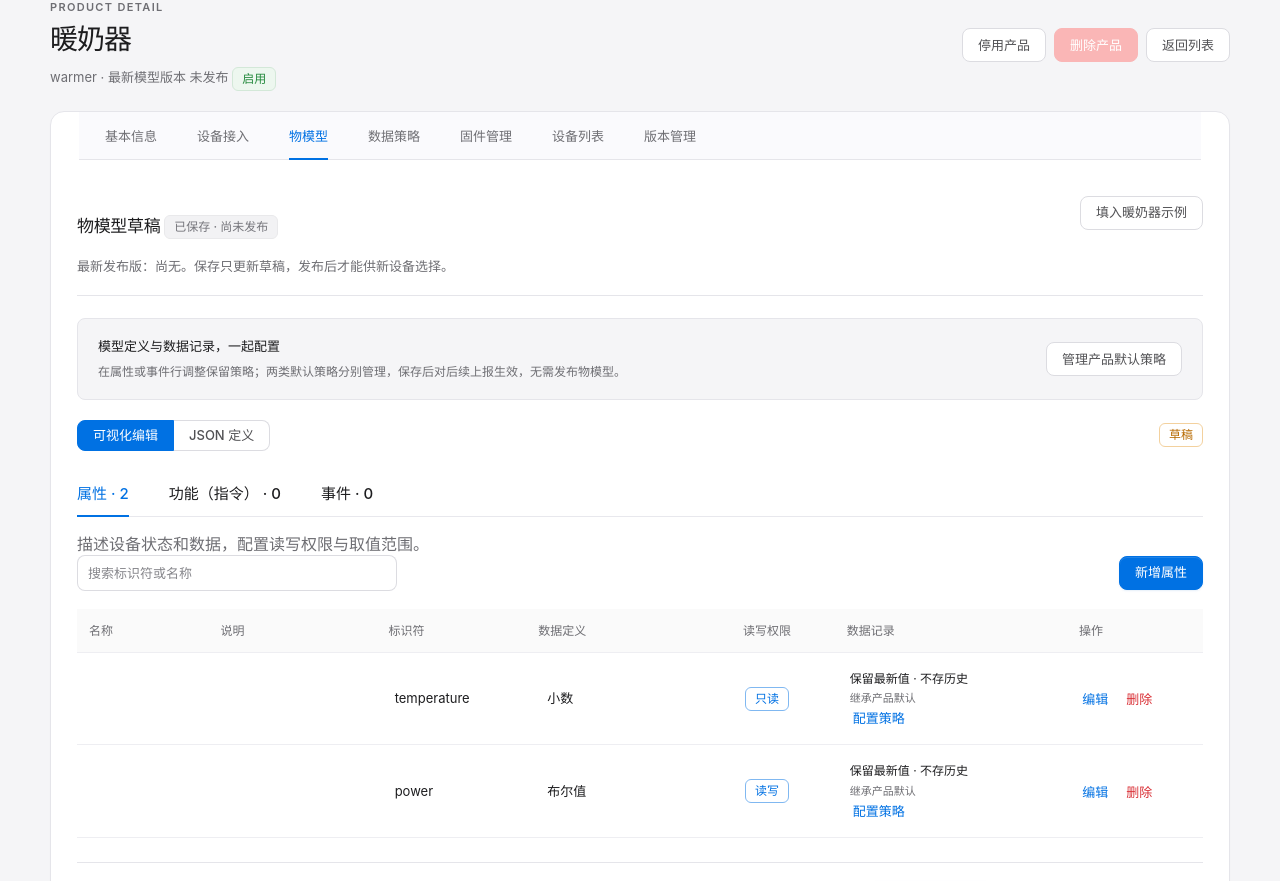
Test: requires saving changed attribute definitions before configuring their policy
Click the button "填入暖奶器示例".
click(1142, 213)  # box [1080,196,1203,230]
(page scrolled)
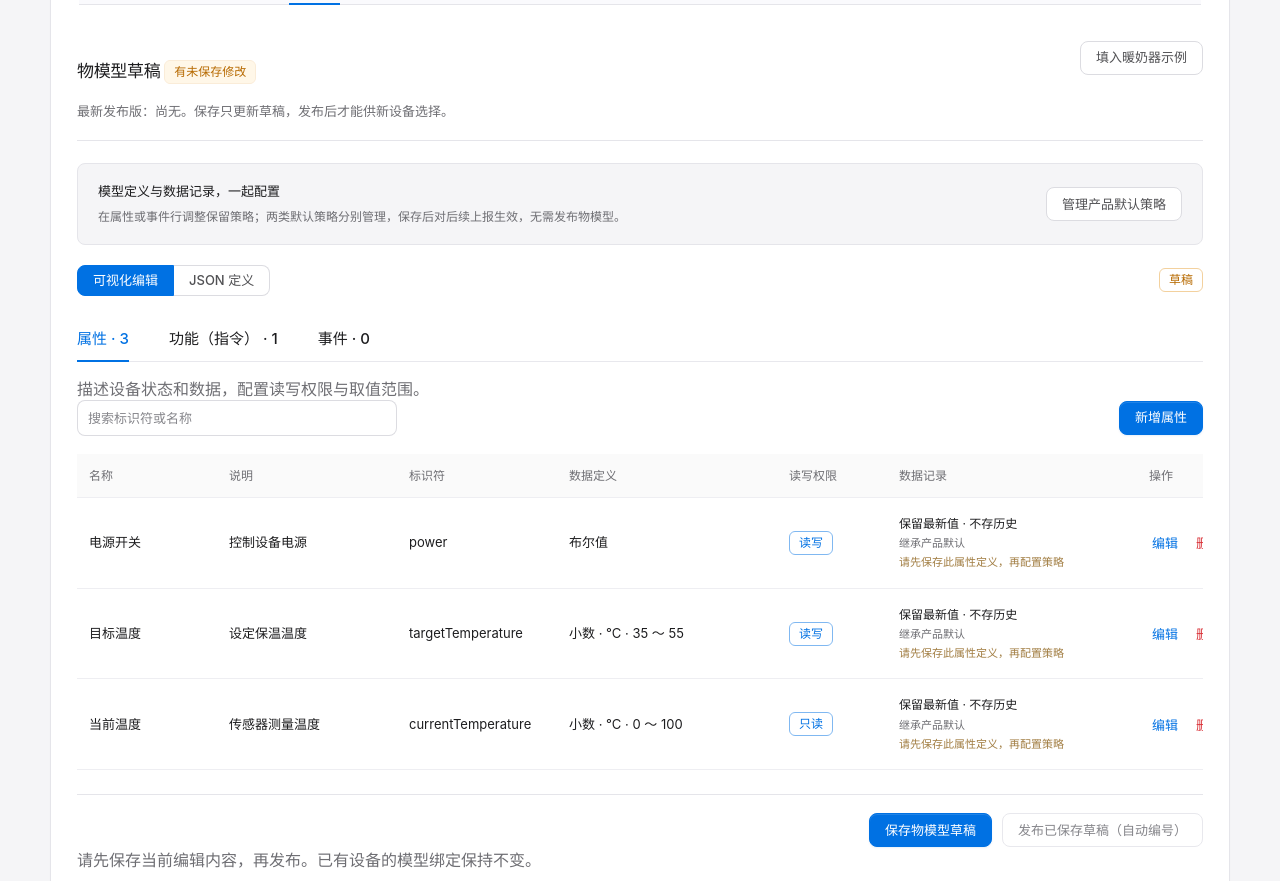
Now the element with class "thing-model" shows "请先保存此属性定义，再配置策略", box [899,555,1064,569]
